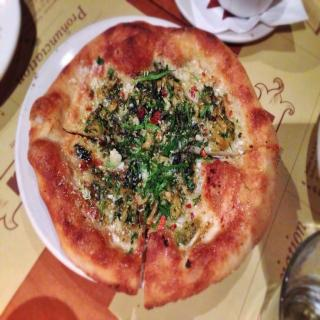Pizza: (33, 13, 287, 315)
